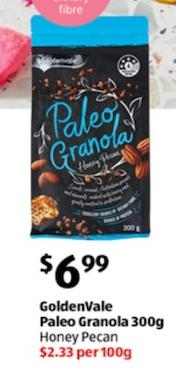description_block: (30, 301, 169, 345)
price_main: (21, 245, 133, 295)
product_image_block: (16, 4, 158, 247)
unit_price_block: (33, 342, 138, 362)
